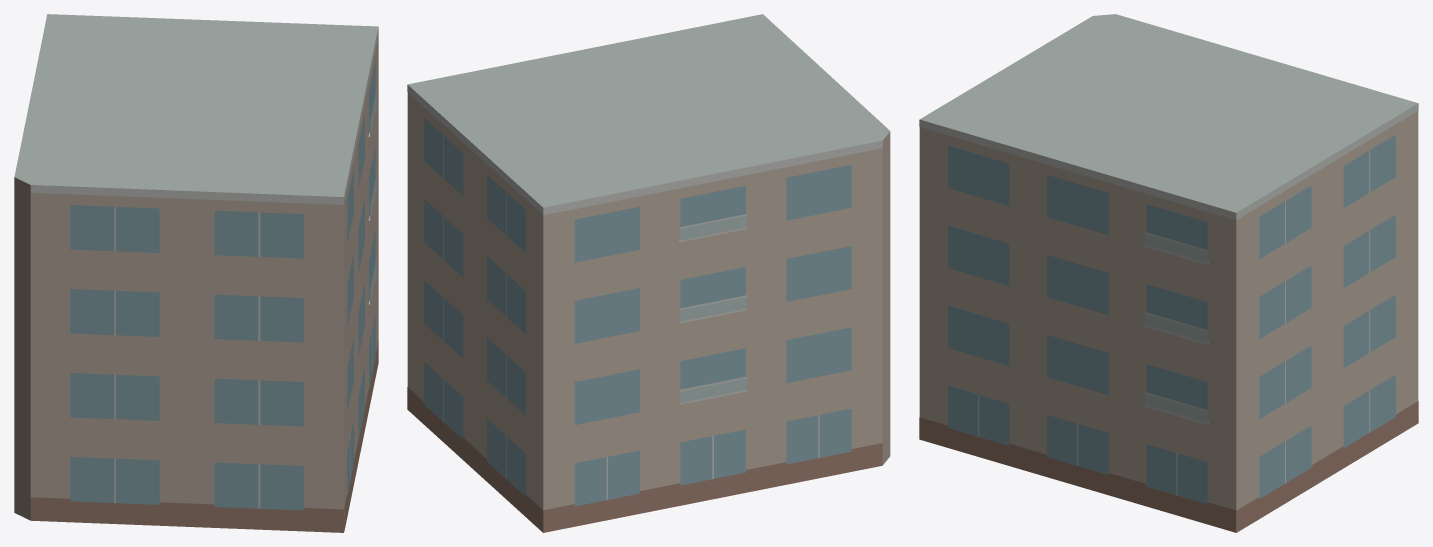
The model's file is survey-upis-32656901.glb.
3 renders of one model, left to right at view 1: azimuth 30°, elevation 25°; view 2: azimuth 150°, elevation 25°; view 3: azimuth 270°, elevation 25°, orthographic. The views are drawn at different scales.
Visible parts, largest first — view 1: survey-upis-32656901.tmp; view 2: survey-upis-32656901.tmp; view 3: survey-upis-32656901.tmp.
Part boxes in pixels (left/top/right/bottom): survey-upis-32656901.tmp: left=14, top=14, right=378, bottom=532; survey-upis-32656901.tmp: left=407, top=14, right=890, bottom=532; survey-upis-32656901.tmp: left=919, top=14, right=1418, bottom=532.
Size of the model in its own units: 13.87 by 10.4 by 14.7.
